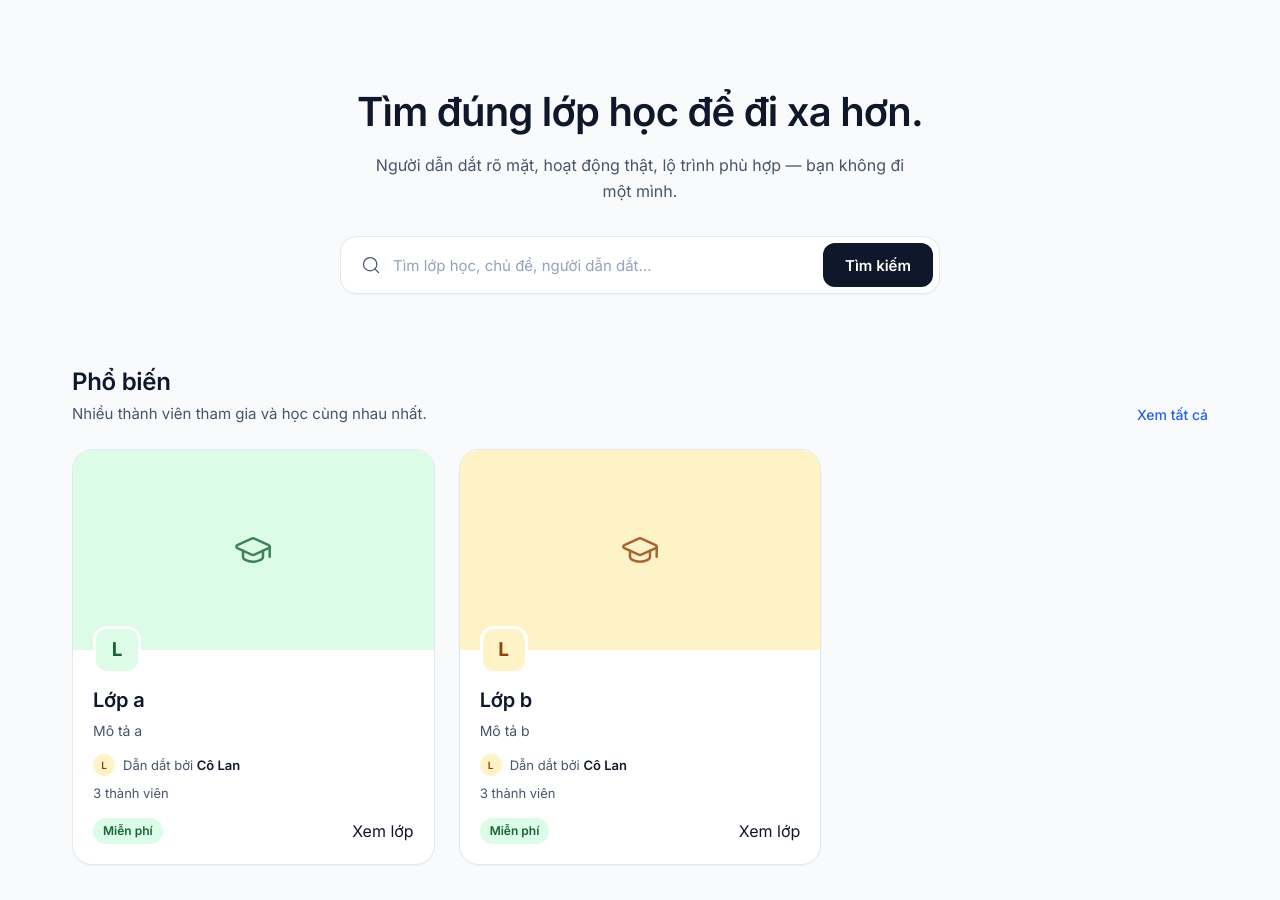
Test case: ClassesPage home › searches with the q param after a short pause and shows the results in place of the rails
Expected: the element "Phổ biến" is shown, [72,366,1208,865]
Type "  toán " into the search field labelled "Tìm lớp học". click: (602, 265)
box: [389,244,815,286]
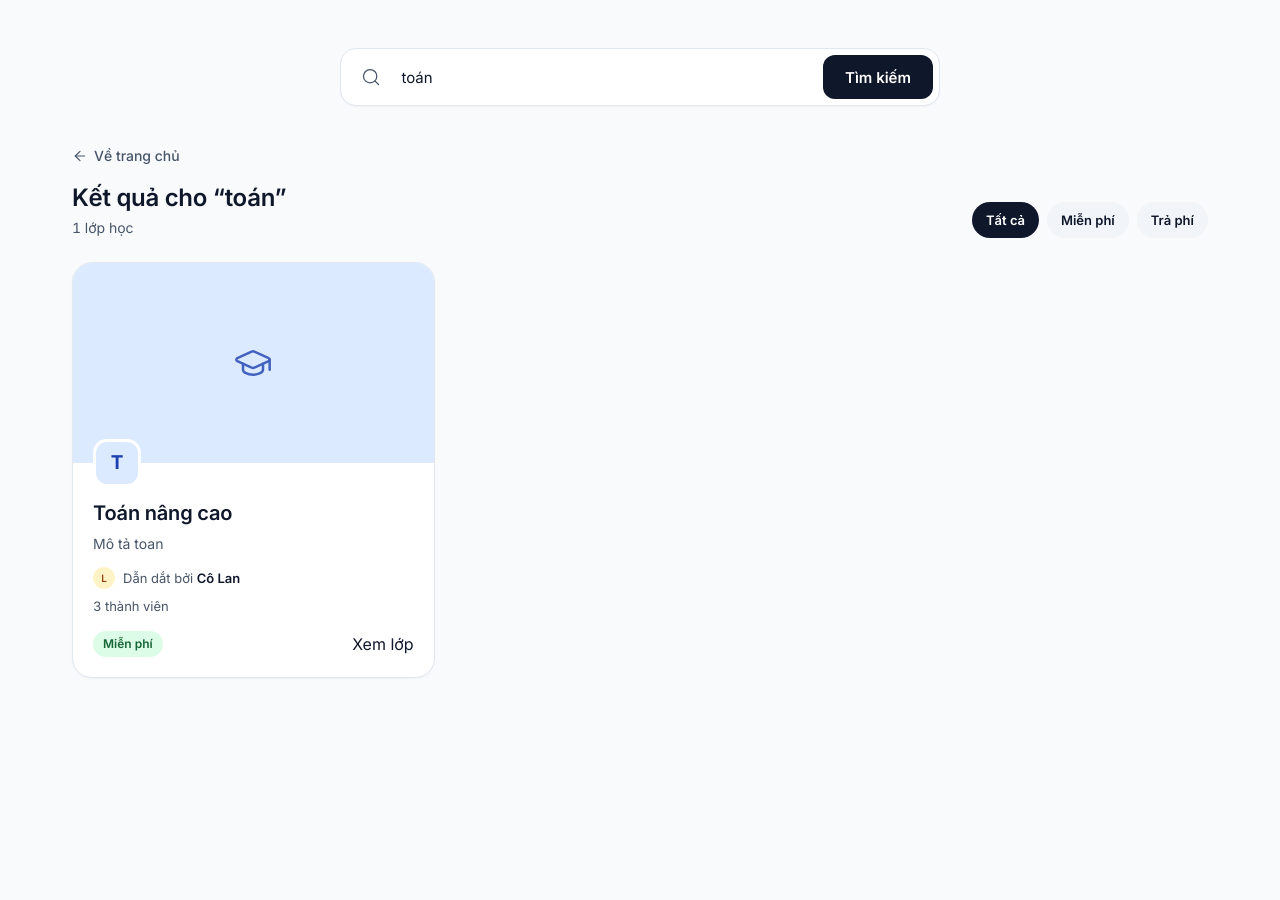
Now the heading "Kết quả cho “toán”" is shown, box [72,182,286,214]
Now the heading "Toán nâng cao" is shown, box [93,501,232,525]
Now the heading "Phổ biến" is gone
// "Về trang chủ" clears the search and brings the rails back.
Click the button "Về trang chủ". click: click(126, 156)
box: [72,146,180,166]
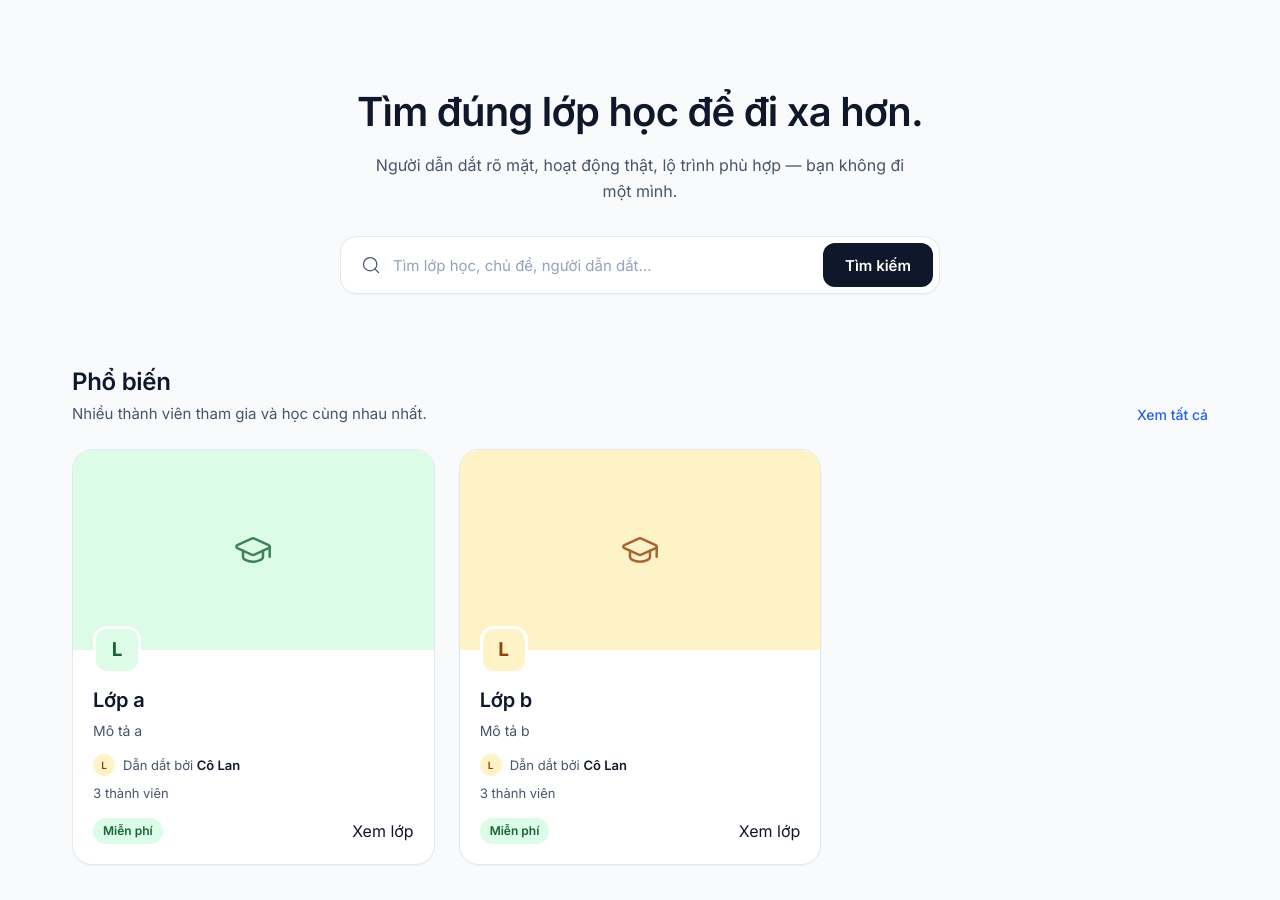
Now the element "Phổ biến" is shown, box [72,366,1208,865]
Now the search field labelled "Tìm lớp học" is empty, box [389,244,815,286]
